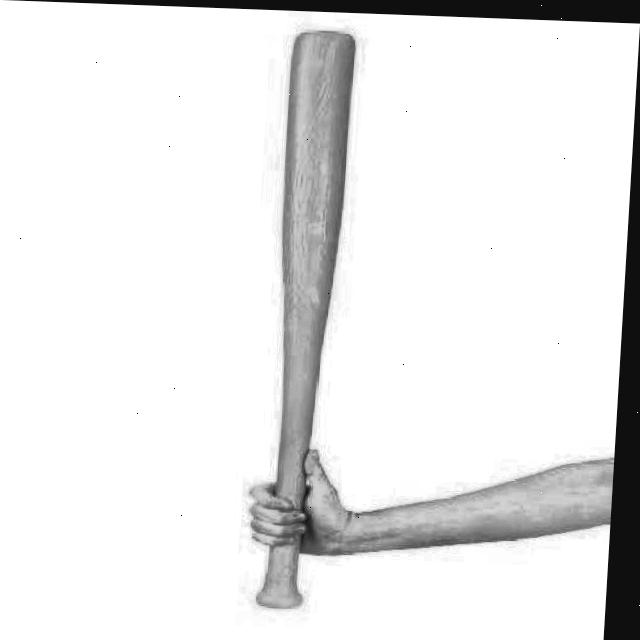tongkat pemukul: (247, 20, 370, 613)
